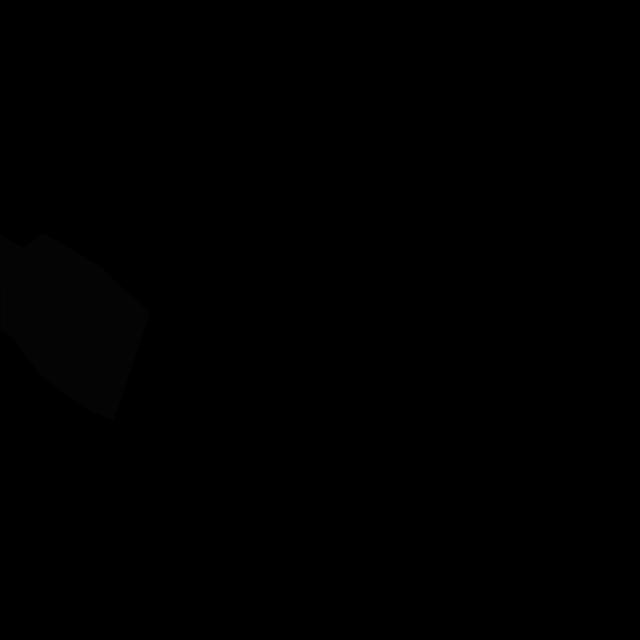soft_plastic: (0, 233, 150, 422)
